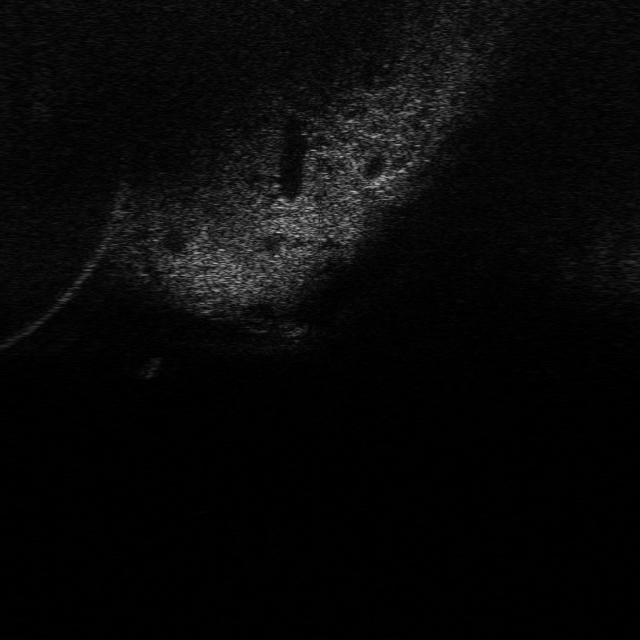cube: (268, 316, 313, 340)
cylinder: (134, 355, 164, 383)
